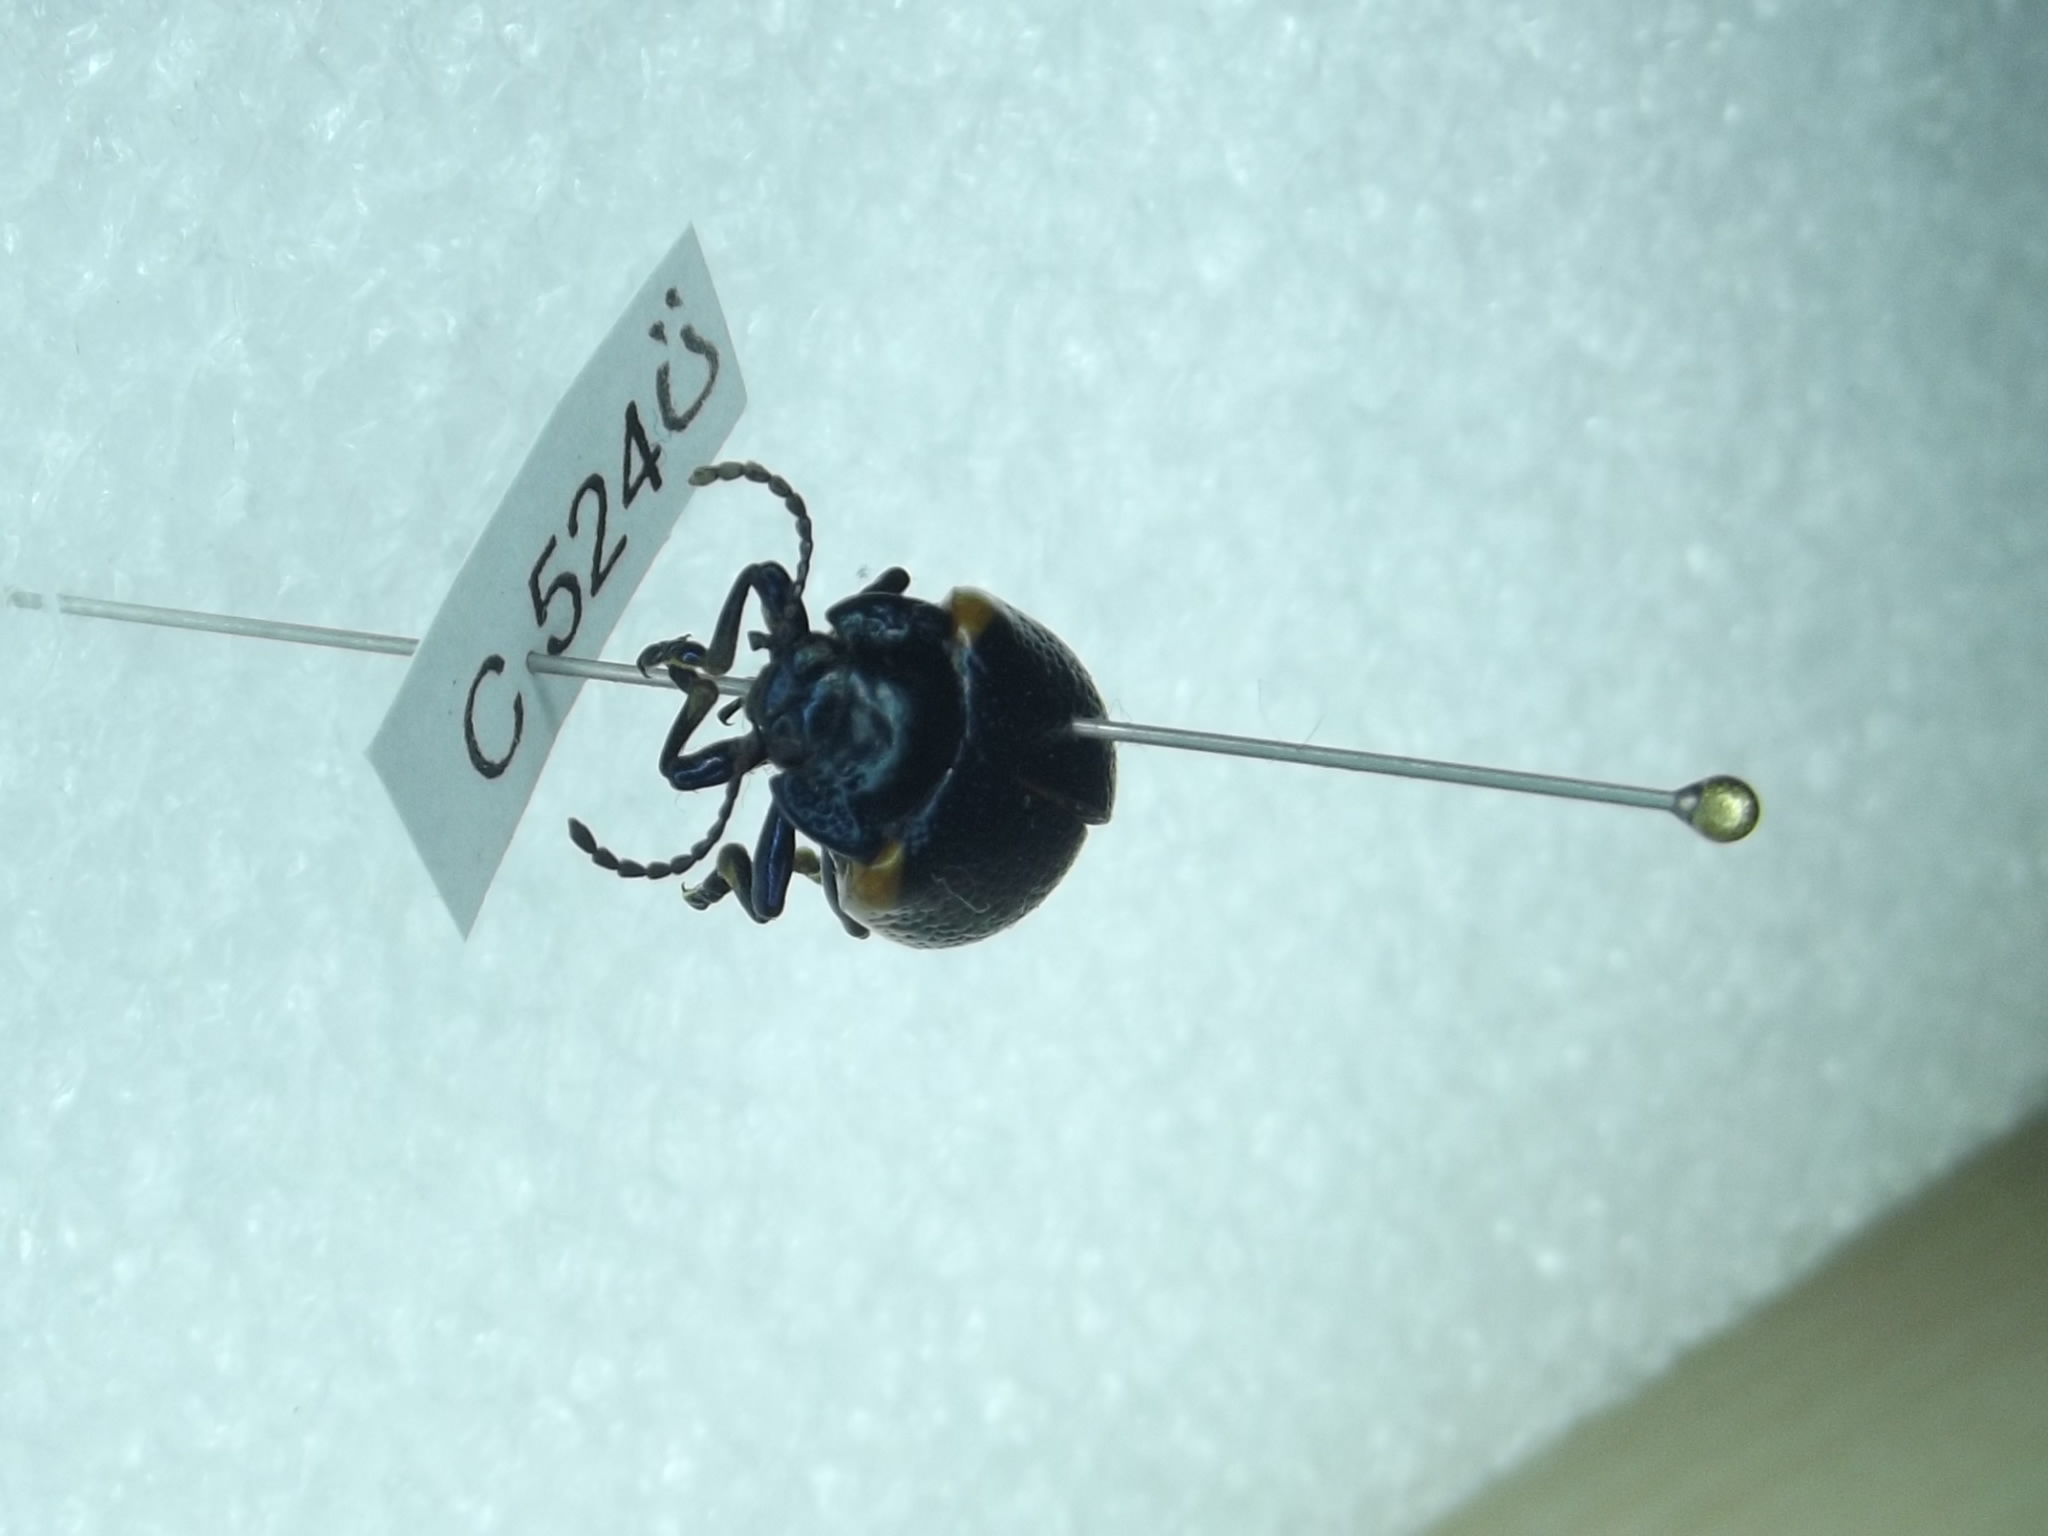Chrysolina_gypsophila: (547, 419, 1130, 958)
